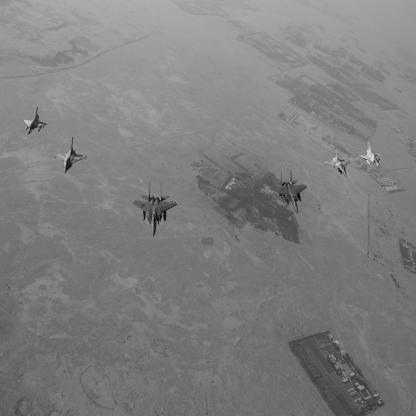F15: (133, 181, 179, 238), (270, 168, 308, 215)
Mirage2000: (25, 107, 50, 136), (360, 142, 382, 170)
Rafale: (56, 137, 88, 175), (324, 147, 352, 179)
